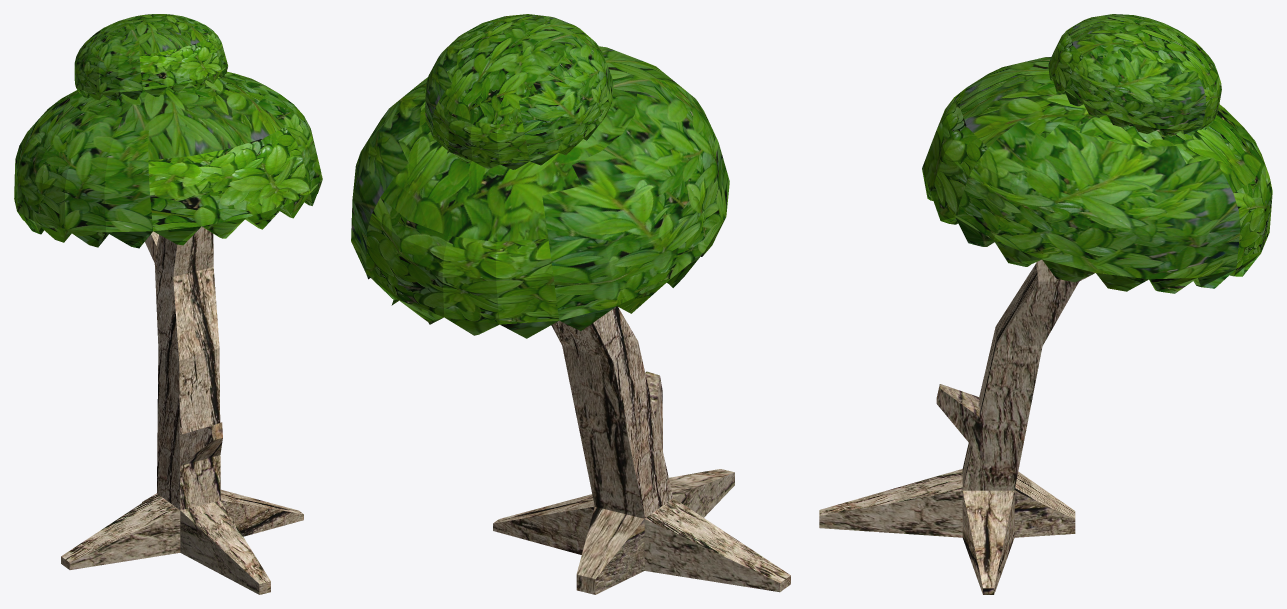
Rendered from tree2.fbx.
3 renders of one model, left to right at view 1: azimuth 30°, elevation 25°; view 2: azimuth 150°, elevation 25°; view 3: azimuth 270°, elevation 25°, orthographic. The views are drawn at different scales.
Parts seen in each view (by area): view 1: pSphere1, pCube1, pSphere2; view 2: pSphere1, pCube1, pSphere2; view 3: pSphere1, pCube1, pSphere2.
Boxes of the visible parts, x1=… form: pSphere1: x1=14, y1=71, x2=322, y2=248; pCube1: x1=61, y1=226, x2=303, y2=594; pSphere2: x1=74, y1=14, x2=227, y2=100; pSphere1: x1=351, y1=46, x2=729, y2=338; pCube1: x1=493, y1=306, x2=790, y2=594; pSphere2: x1=425, y1=14, x2=613, y2=169; pSphere1: x1=922, y1=57, x2=1272, y2=293; pCube1: x1=819, y1=259, x2=1092, y2=594; pSphere2: x1=1048, y1=14, x2=1221, y2=136.
Size of the model in its own units: 7.03 by 11.14 by 8.74.
2 materials, 2 textured.
